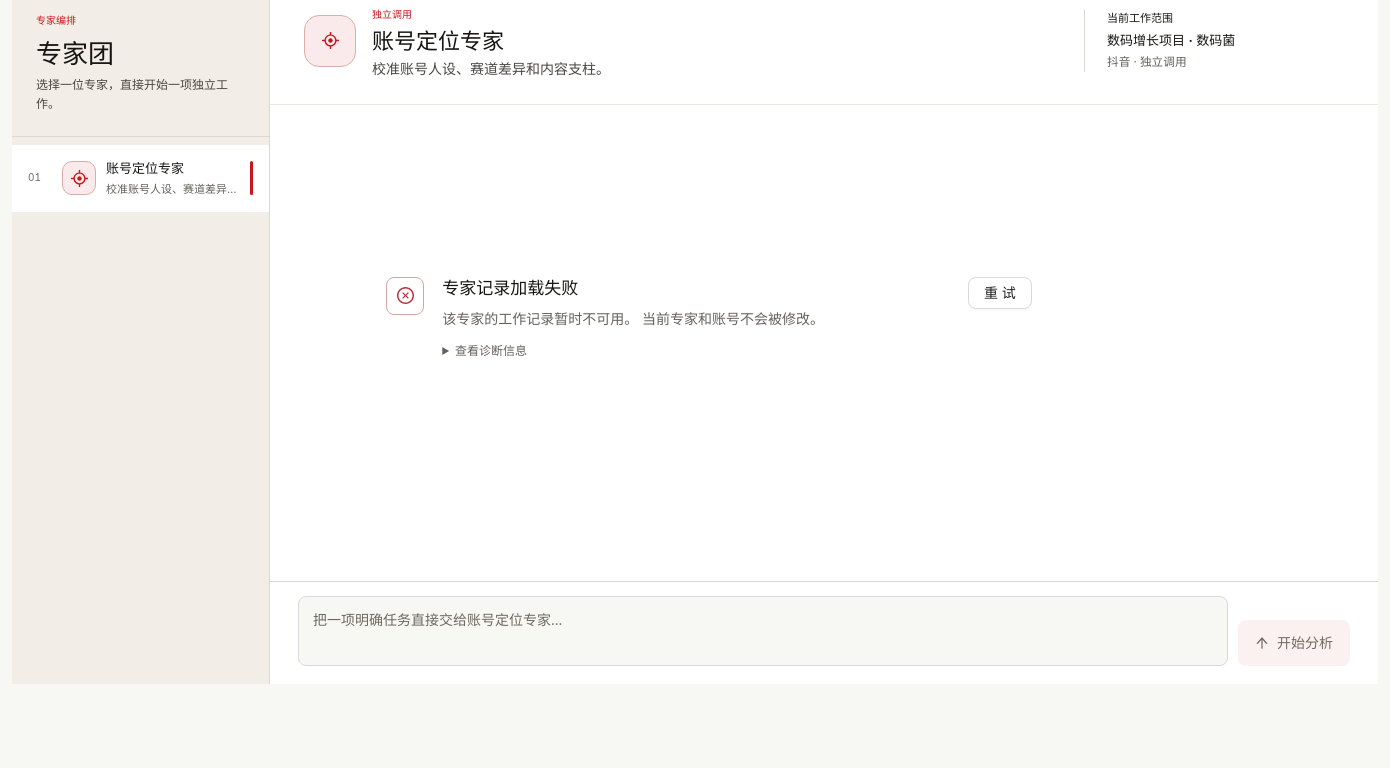
ExpertTeam › does not present failed expert history as no work records
expect the message shows "专家记录加载失败": met, box [442, 278, 578, 298]
Click the button "重 试".
click(1000, 293)  # box [968, 277, 1032, 309]
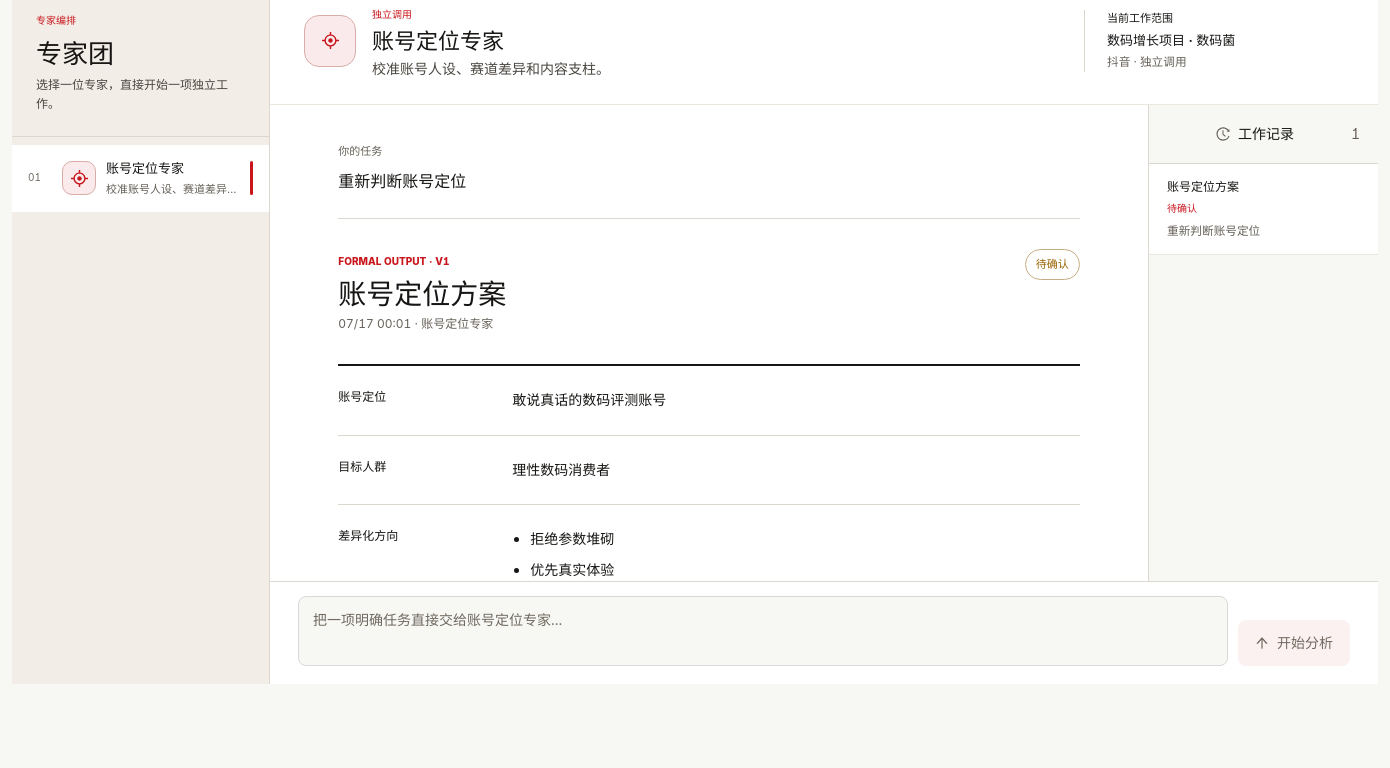
expect the text "敢说真话的数码评测账号" is shown: met, box [512, 391, 666, 408]
